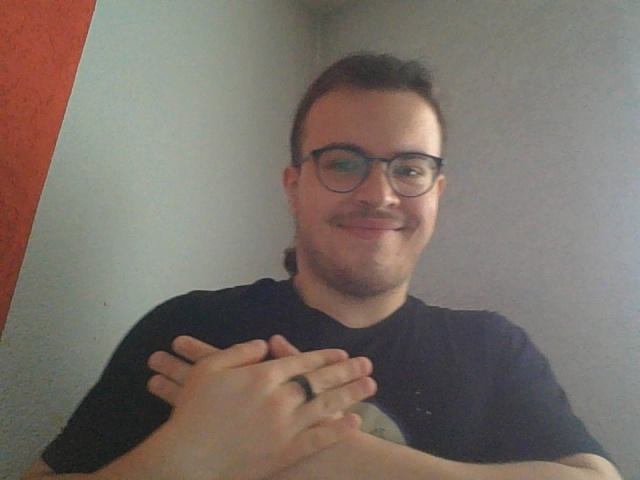Love: (143, 331, 381, 480)
